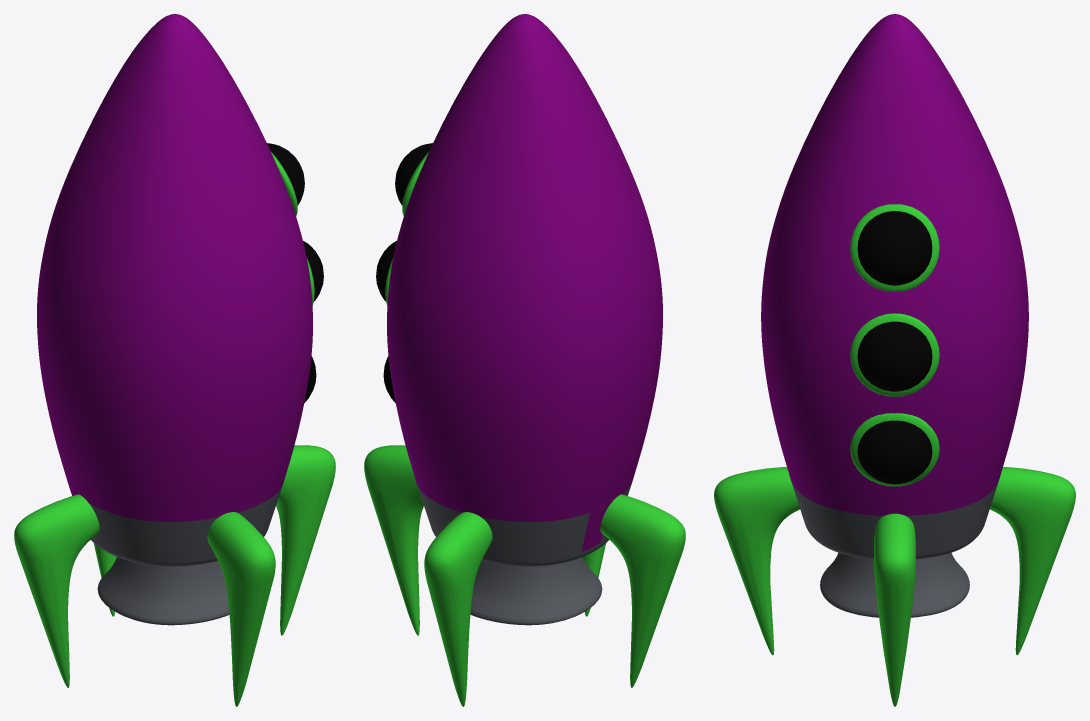
Rendered from rocket2Game.fbx.
3 renders of one model, left to right at view 1: azimuth 30°, elevation 25°; view 2: azimuth 150°, elevation 25°; view 3: azimuth 270°, elevation 25°, orthographic.
Parts seen in each view (by area): view 1: Purple, Legs, Windows, Window Trim; view 2: Purple, Legs, Windows, Window Trim; view 3: Purple, Legs, Windows, Window Trim.
Part boxes in pixels (left/top/right/bottom): Purple: left=37, top=14, right=312, bottom=625; Legs: left=14, top=445, right=335, bottom=706; Windows: left=267, top=143, right=323, bottom=402; Window Trim: left=271, top=152, right=314, bottom=304; Purple: left=387, top=14, right=662, bottom=625; Legs: left=364, top=445, right=685, bottom=706; Windows: left=376, top=143, right=432, bottom=402; Window Trim: left=385, top=152, right=428, bottom=304; Purple: left=761, top=14, right=1028, bottom=617; Legs: left=714, top=467, right=1075, bottom=706; Windows: left=857, top=211, right=932, bottom=484; Window Trim: left=850, top=204, right=939, bottom=486.
Bounding box in the file's own units: 727 × 1419 × 727.
